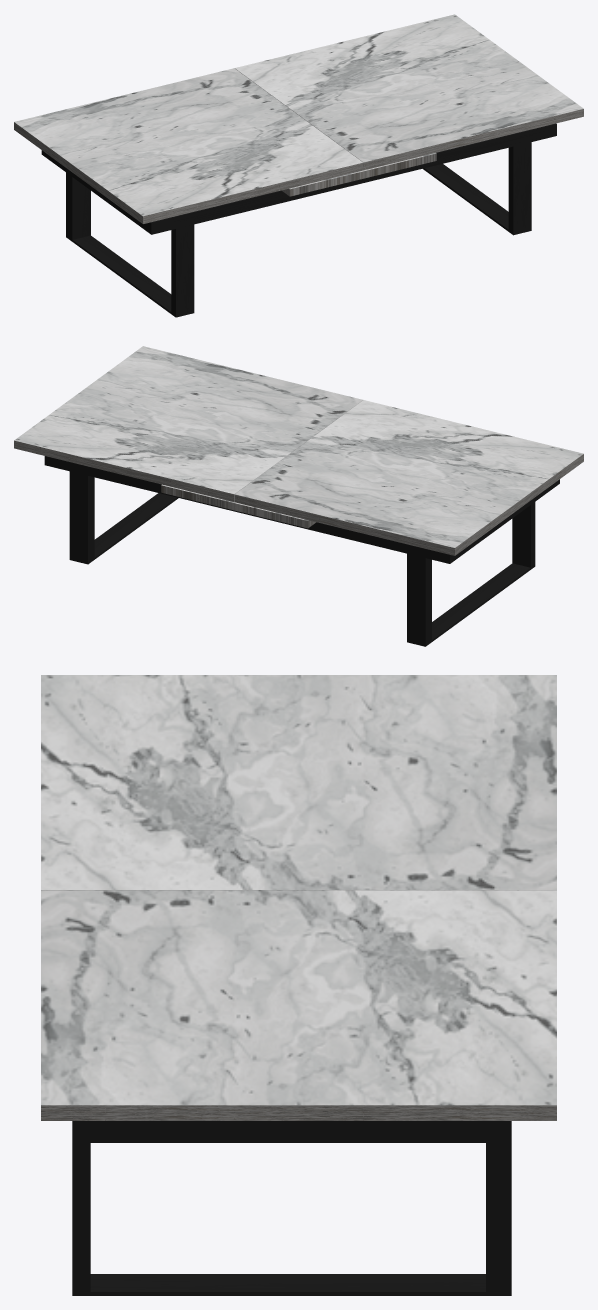
The model's file is MesaCocina.obj.
3 views of the same model, one above another, from view 1: azimuth 30°, elevation 25°; view 2: azimuth 150°, elevation 25°; view 3: azimuth 270°, elevation 25° (orthographic). The views are drawn at different scales.
Visible parts, largest first — view 1: Cubo.001_Cubo.003, Cubo.009_Cubo.002; view 2: Cubo.001_Cubo.003, Cubo.009_Cubo.002; view 3: Cubo.001_Cubo.003, Cubo.009_Cubo.002.
Boxes of the visible parts, <box> form: Cubo.001_Cubo.003: <box>14,14,583,223</box>; Cubo.009_Cubo.002: <box>41,123,556,317</box>; Cubo.001_Cubo.003: <box>14,346,583,555</box>; Cubo.009_Cubo.002: <box>44,456,559,646</box>; Cubo.001_Cubo.003: <box>41,675,556,1120</box>; Cubo.009_Cubo.002: <box>72,1121,511,1295</box>.
Size of the model in its own units: 7.64 by 1.94 by 3.87.
